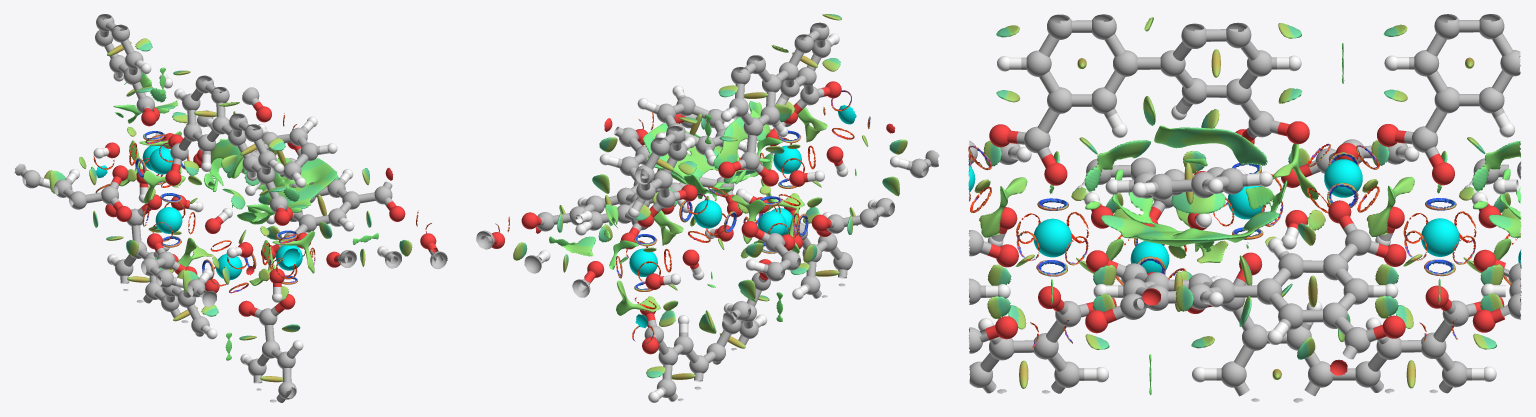
File: MFMIn_NCI.glb
3 renders of one model, left to right at view 1: azimuth 30°, elevation 25°; view 2: azimuth 150°, elevation 25°; view 3: azimuth 270°, elevation 25°, orthographic. The views are drawn at different scales.
Visible parts, largest first — view 1: atoms, surface, bonds; view 2: atoms, surface, bonds; view 3: atoms, surface, bonds.
Boxes of the visible parts, left/top/right/bottom form: atoms: left=14, top=14, right=447, bottom=402; surface: left=44, top=38, right=431, bottom=382; bonds: left=20, top=18, right=443, bottom=402; atoms: left=476, top=22, right=939, bottom=402; surface: left=495, top=14, right=907, bottom=379; bonds: left=480, top=27, right=931, bottom=401; atoms: left=968, top=14, right=1521, bottom=402; surface: left=968, top=17, right=1521, bottom=394; bonds: left=969, top=20, right=1520, bottom=396.
Size of the model in its own units: 0.6793 by 0.6762 by 0.9036.
